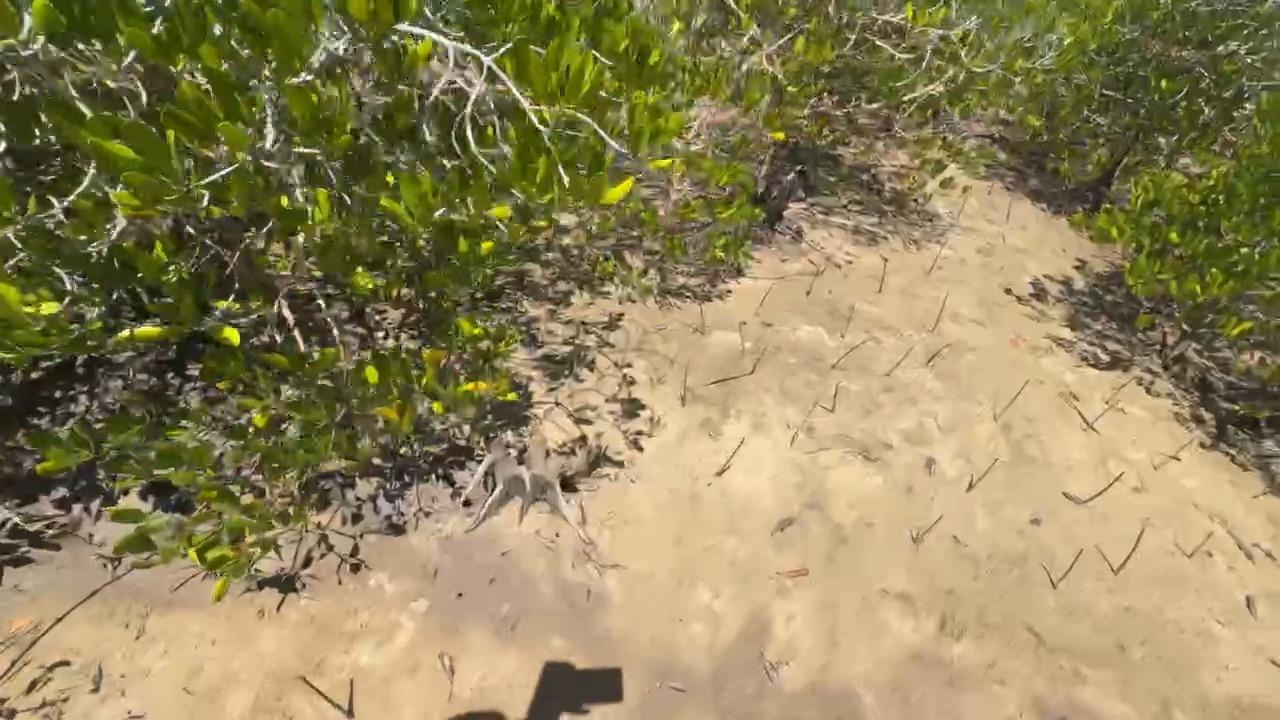Tree: (995, 378, 1030, 423), (1114, 527, 1146, 576), (1083, 471, 1125, 504), (1054, 548, 1084, 589), (965, 458, 1000, 493), (831, 339, 870, 369), (716, 437, 745, 476), (437, 651, 456, 703), (885, 346, 915, 376), (1104, 376, 1136, 404), (1082, 405, 1114, 432), (915, 514, 943, 544), (931, 291, 948, 333), (1188, 531, 1214, 558), (755, 283, 776, 314), (925, 343, 952, 367), (928, 245, 945, 276), (750, 346, 766, 375), (681, 360, 690, 408), (842, 305, 854, 339), (878, 254, 888, 293), (738, 320, 747, 360), (831, 381, 842, 413), (347, 677, 355, 720), (807, 268, 818, 296), (1174, 439, 1193, 455), (957, 194, 969, 219), (698, 301, 705, 336), (1006, 199, 1012, 223), (987, 182, 994, 196)
